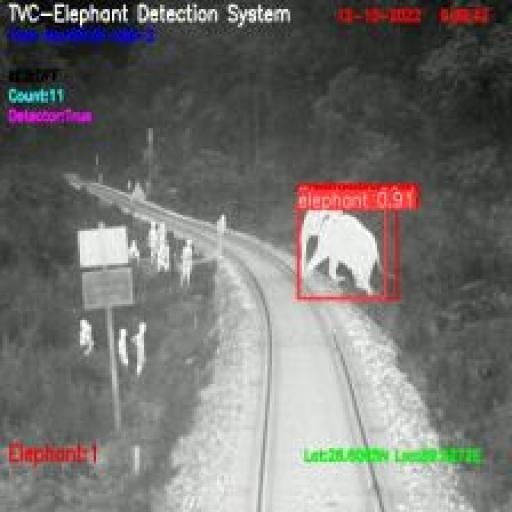Elephant: (300, 208, 386, 298)
